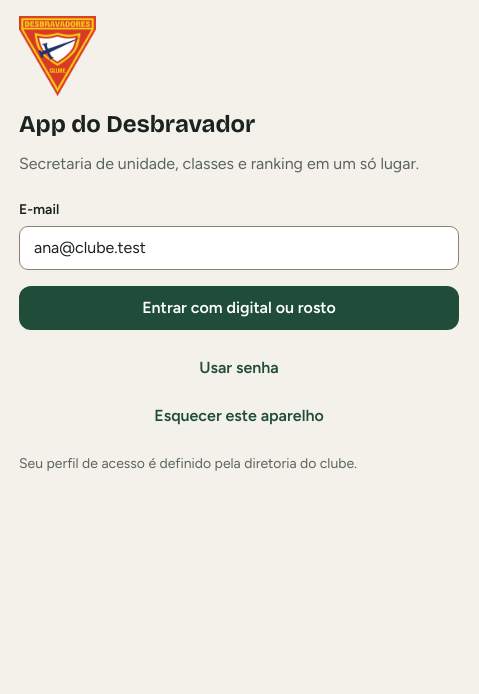
it: login: aparelho com a marca › "Usar senha" mostra o campo e o botão Entrar, e os dois atalhos continuam à vista
Click the button "Usar senha": (239, 368) x1=19 y1=346 x2=459 y2=390
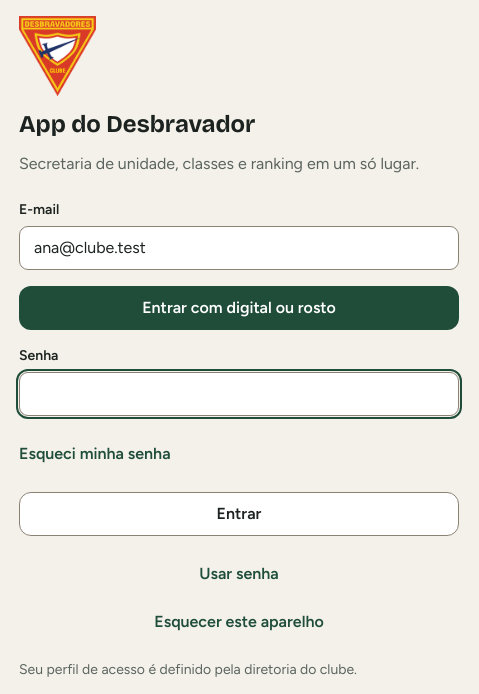
Expected: the button "Esquecer este aparelho" is shown, x1=19 y1=600 x2=459 y2=644
Now the button "Entrar" is shown, box x1=19 y1=492 x2=459 y2=536
